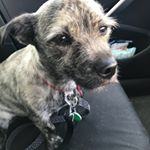puppy: (1, 1, 122, 136)
